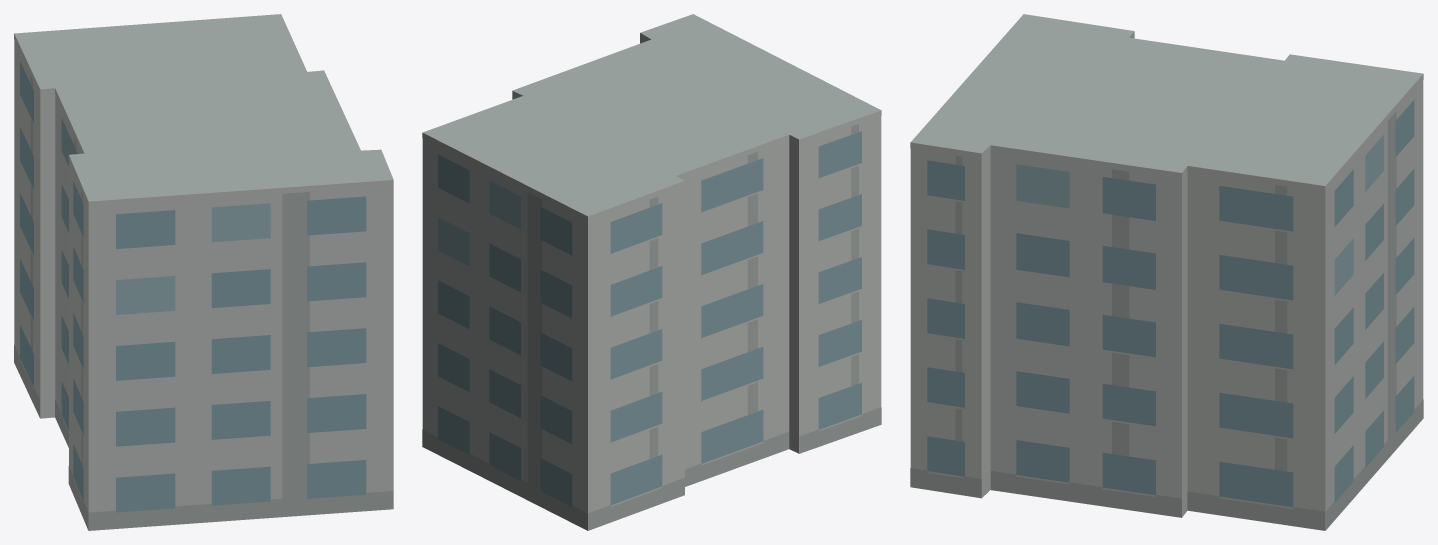
File: survey-upis-32969051.glb
3 views of the same model, side by side, from view 1: azimuth 30°, elevation 25°; view 2: azimuth 150°, elevation 25°; view 3: azimuth 270°, elevation 25° (orthographic). The views are drawn at different scales.
Visible parts, largest first — view 1: survey-upis-32969051.tmp; view 2: survey-upis-32969051.tmp; view 3: survey-upis-32969051.tmp.
Boxes of the visible parts, bbox=[...] form: survey-upis-32969051.tmp: bbox=[14, 14, 393, 530]; survey-upis-32969051.tmp: bbox=[422, 14, 881, 530]; survey-upis-32969051.tmp: bbox=[910, 14, 1423, 530].
Size of the model in its own units: 14.35 by 13.4 by 18.08.
